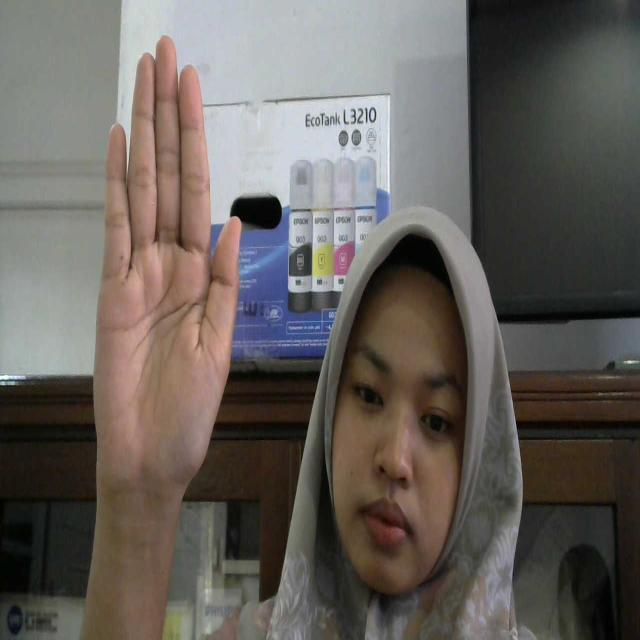hand: (93, 27, 241, 504)
